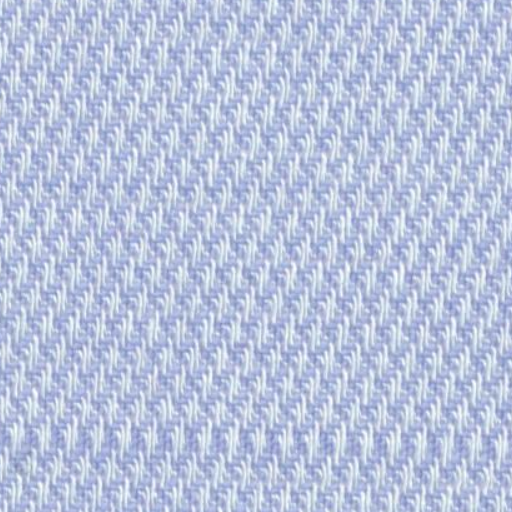TuoSha: (8, 382, 492, 479)
